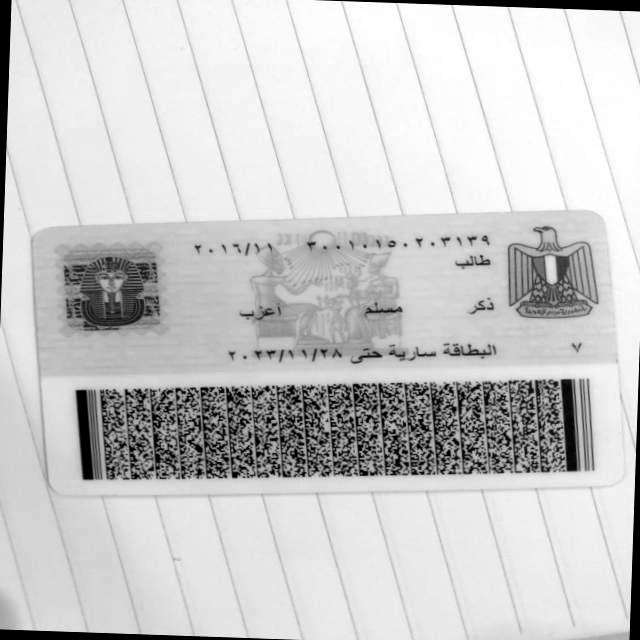id_card: (33, 211, 622, 494)
